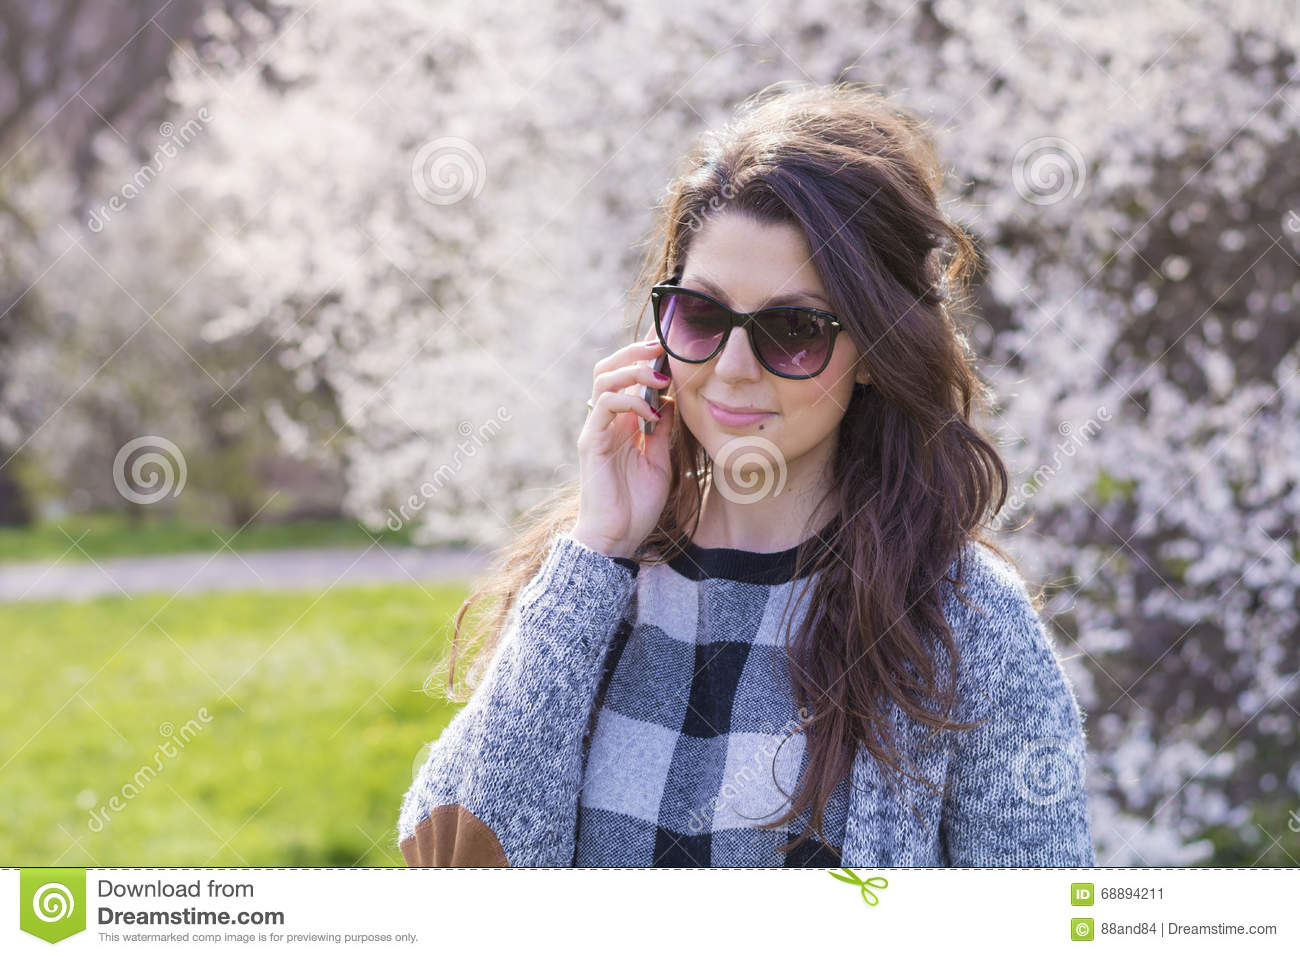phone: (636, 273, 671, 440)
talk: (570, 253, 840, 550)
